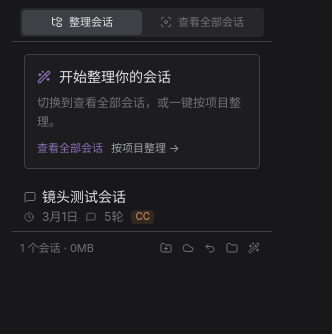
Vault 与镜头双层导航 › 标签分组会把同一会话平铺进多个分组
The image size is (332, 334).
Click the tab "查看全部会话": [202, 22] box [142, 10, 262, 34]
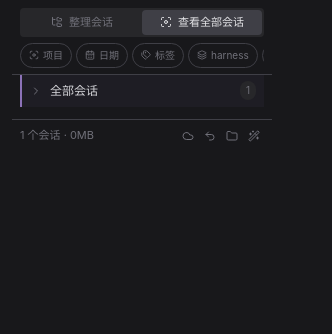
Click the button "标签": [158, 55] box [132, 42, 184, 68]
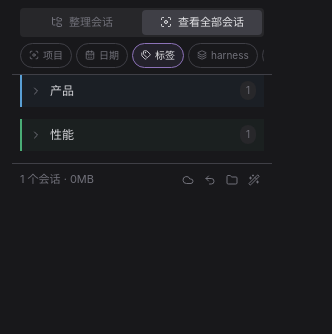
Check: the element showing "产品 1" is shown
Check: the element showing "性能 1" is shown, box [20, 118, 264, 150]
Click the button "产品 1": [142, 90] box [20, 74, 264, 106]
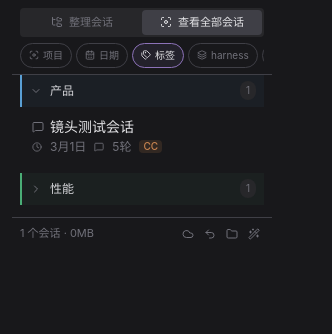
Click the button "性能 1": [142, 188] box [20, 172, 264, 204]
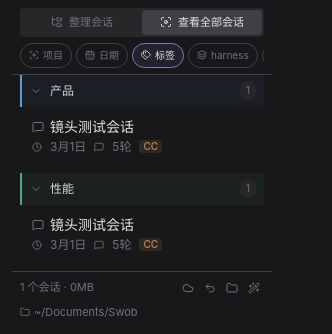
Check: the text "镜头测试会话" is shown 2 times, box [50, 116, 134, 136]; [50, 214, 134, 234]
